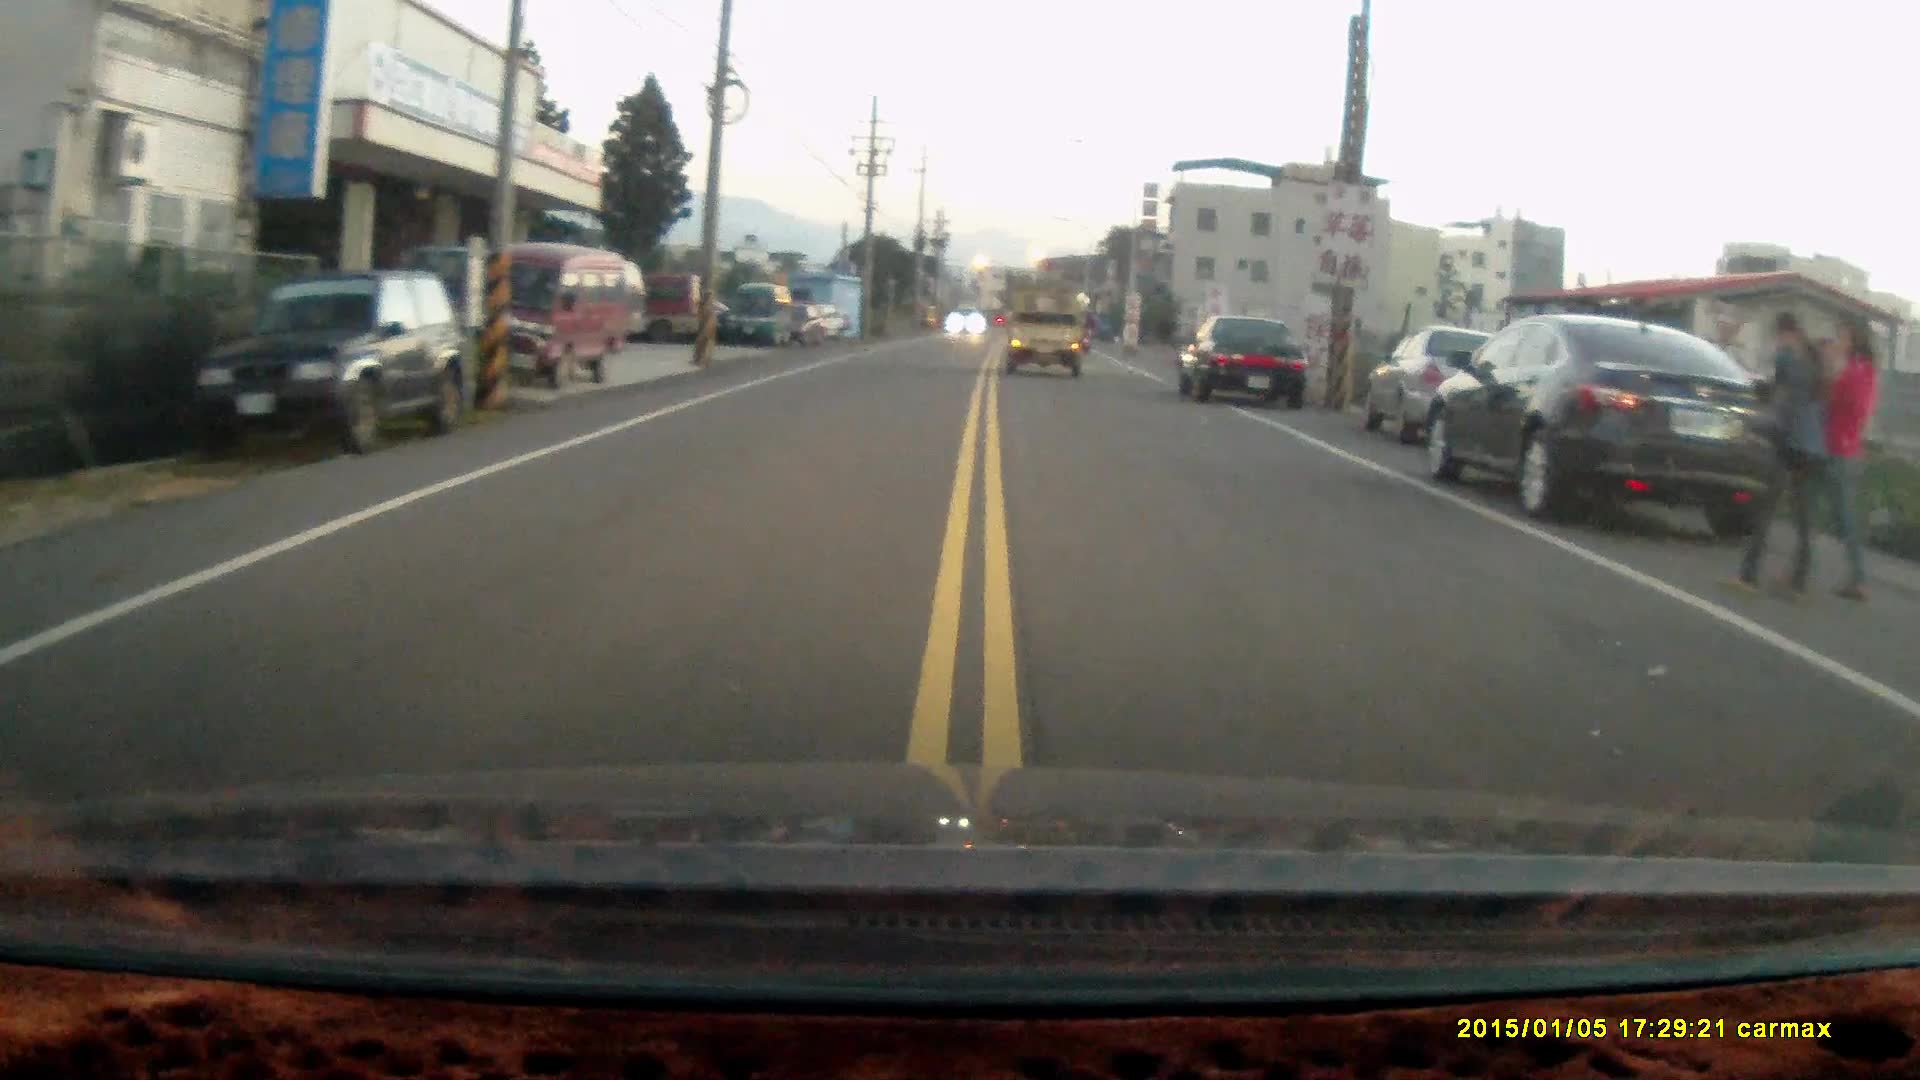pedestrian: (1726, 309, 1826, 599), (1800, 315, 1879, 603)
vehicle: (1424, 317, 1810, 541), (202, 266, 473, 459), (455, 246, 642, 384), (1358, 329, 1514, 451), (1173, 309, 1311, 410), (1007, 292, 1090, 379), (724, 283, 796, 349)
